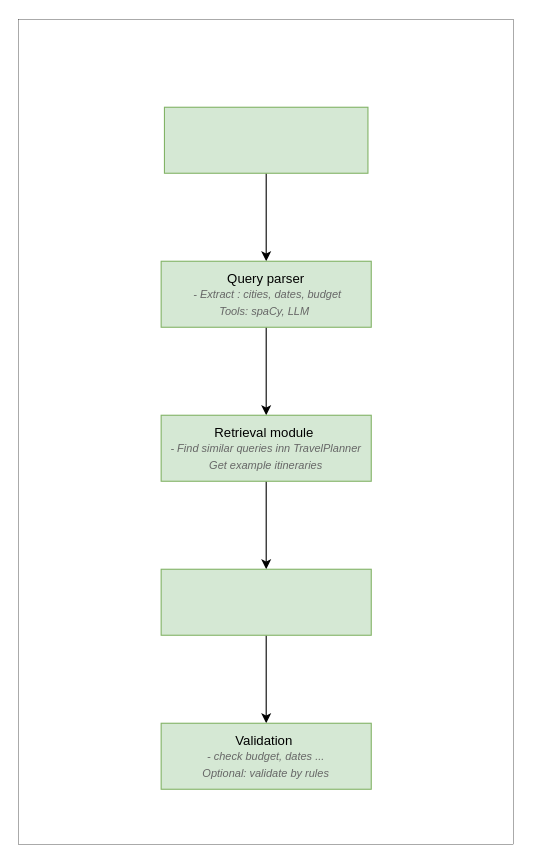
Some shapes in this 534 by 864 pixel diagram are drawn without their labels. Here are the shapes that lost their labels. From the top down, the centre of each, then its label:
pixel 265 139: User input (plan a 3 day trip to Rome for 1000 $)
pixel 265 601: Itinerary Planner - LLM with examples - generate plan by days
